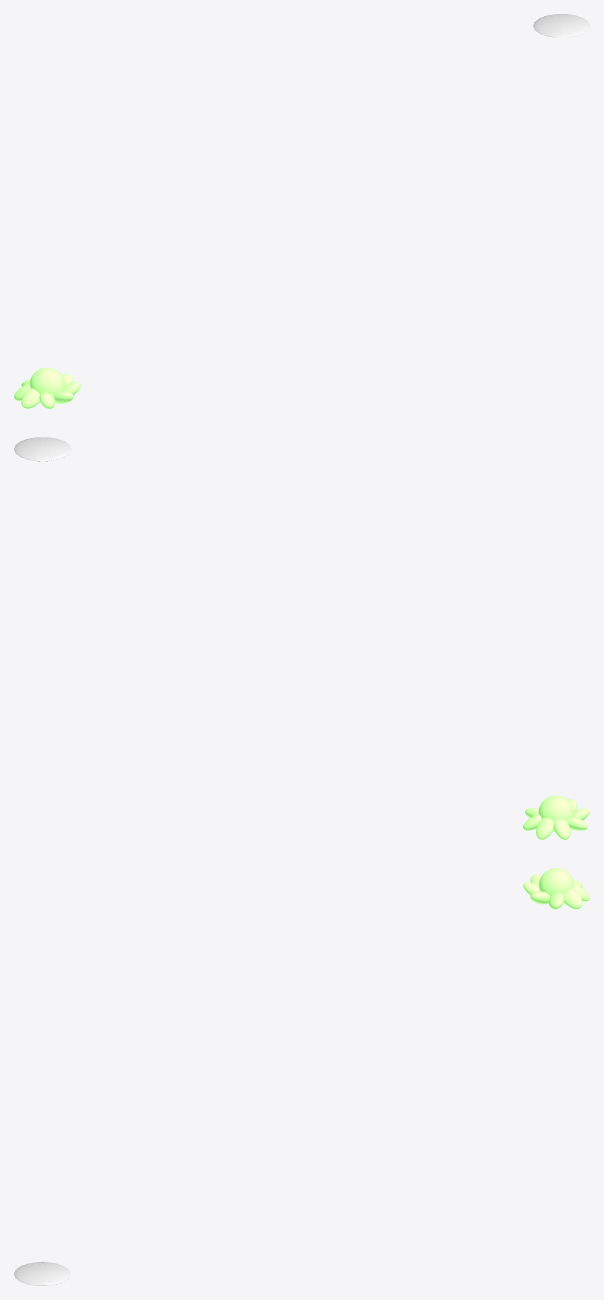
The model's file is farm_crop_cabbage_s2_v3.glb.
3 views of the same model, one above another, from view 1: azimuth 90°, elevation 25°; view 2: azimuth 150°, elevation 25°; view 3: azimuth 270°, elevation 25° (orthographic).
Visible parts, largest first — view 1: soil.011, center; view 2: soil.011, center; view 3: soil.011, center.
Part boxes in pixels (x1,y1,x2,y2): soil.011: [533, 14, 589, 37]; center: [29, 367, 65, 395]; soil.011: [14, 437, 71, 461]; center: [538, 795, 574, 831]; soil.011: [14, 1262, 70, 1285]; center: [538, 868, 574, 896].
Bounding box in the file's own units: 9.22 × 0.3567 × 5.6.
